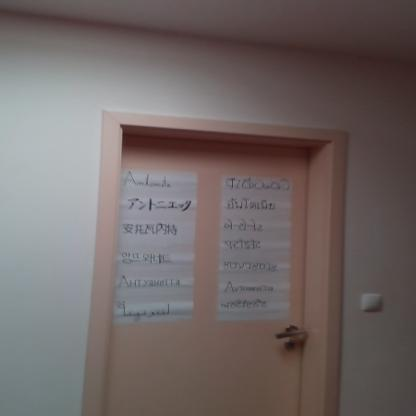door: (120, 136, 308, 416)
lever: (271, 330, 310, 340)
